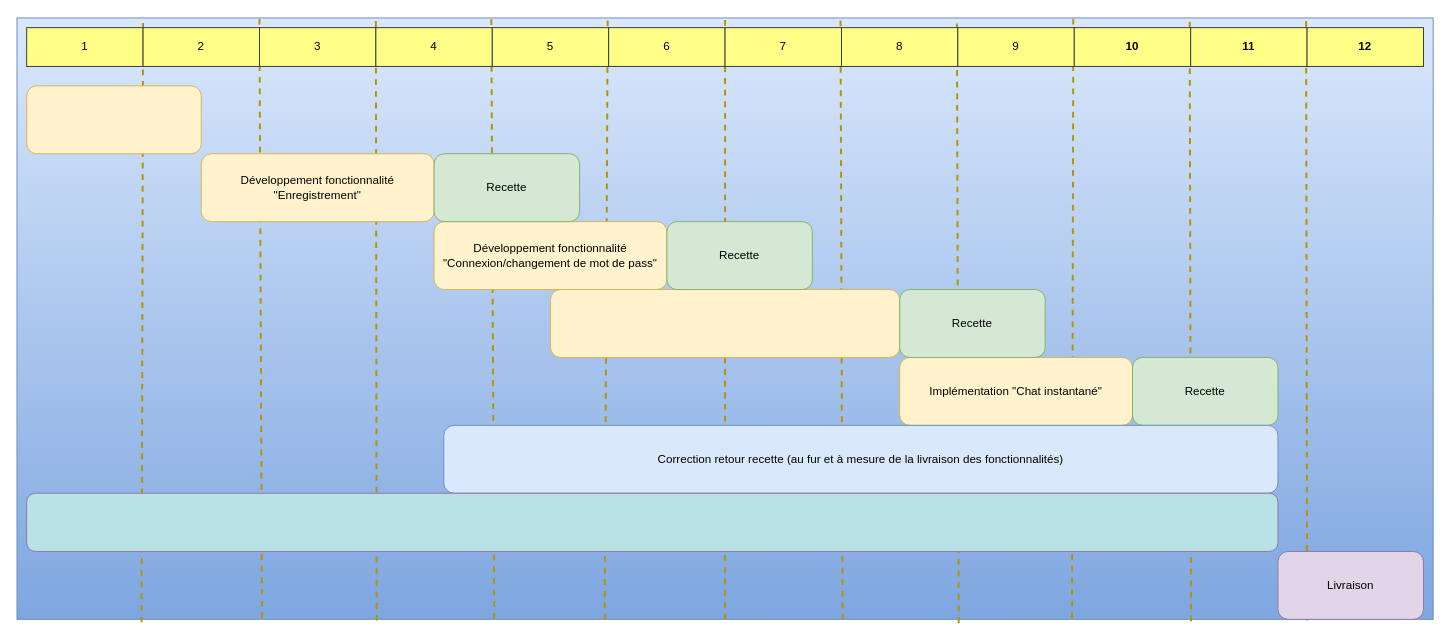
The diagram is 1450 pixels wide and 641 high, and some of its shapes have lost their labels. The box of each missing label's shape, as (x1, y1, x2, y2) in pixels:
Conception technique et rédaction documentation associé: (26, 85, 201, 154)
Développement fonctionnalité "Messagerie": (550, 289, 900, 357)
Rédaction de la documentation: (26, 492, 1278, 551)
